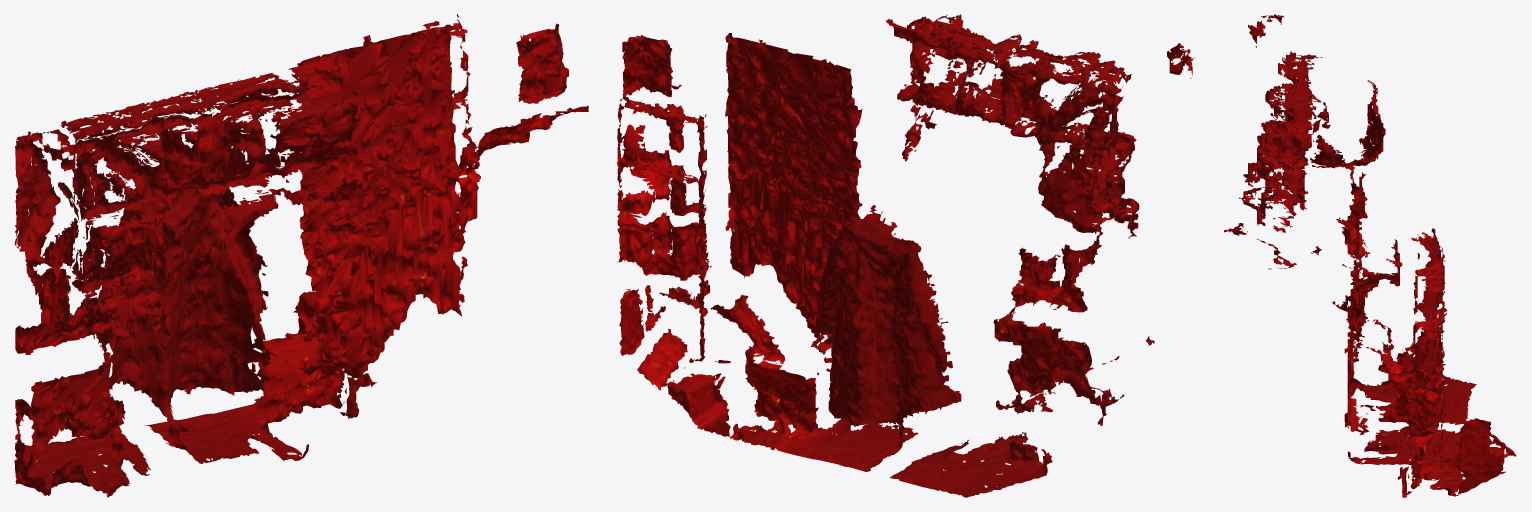
Rendered from mesh_iter_0001.obj.
3 views of the same model, side by side, from view 1: azimuth 30°, elevation 25°; view 2: azimuth 150°, elevation 25°; view 3: azimuth 270°, elevation 25° (orthographic). The views are drawn at different scales.
Size of the model in its own units: 3.02 by 2.14 by 1.67.
